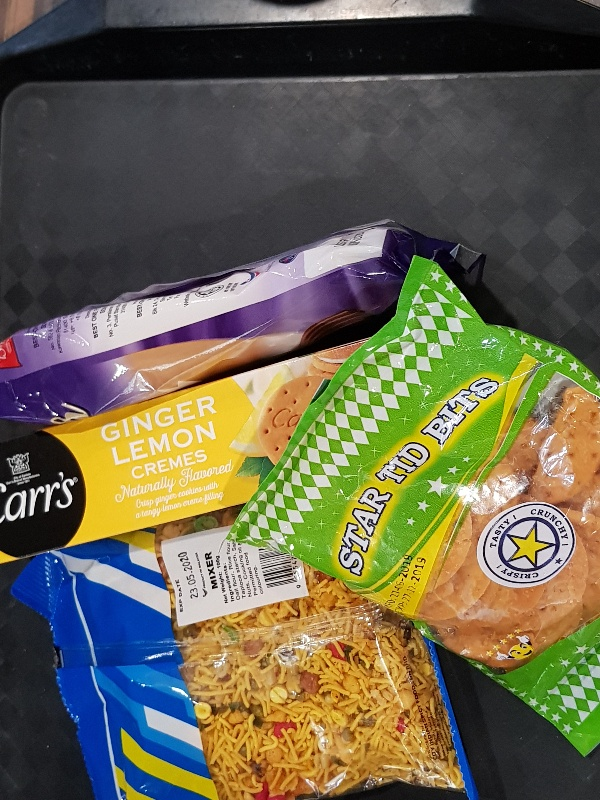Carr's Ginger Lemon Cremes: (1, 338, 369, 566)
Star Tidbits 'O' Ring: (226, 253, 600, 759)
Star Tidbits Mixer: (11, 503, 479, 800)
Tinges Roll Chocolate: (3, 219, 481, 430)
